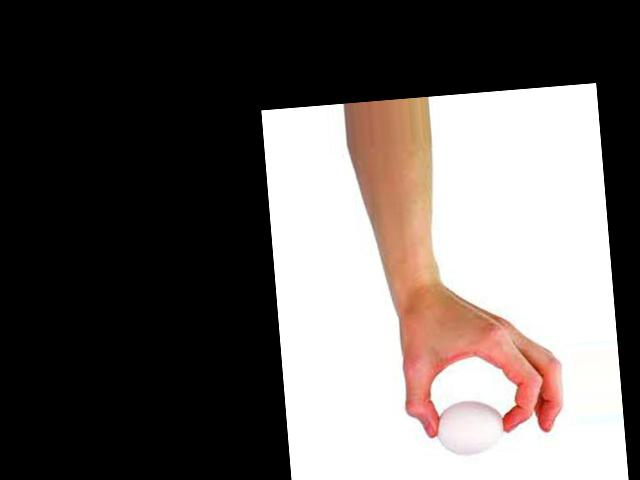egg: (435, 398, 505, 457)
